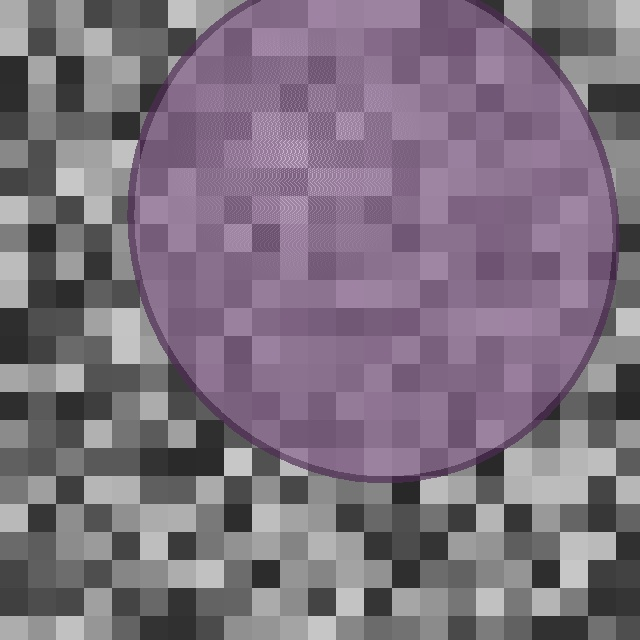lens: (131, 0, 615, 477)
